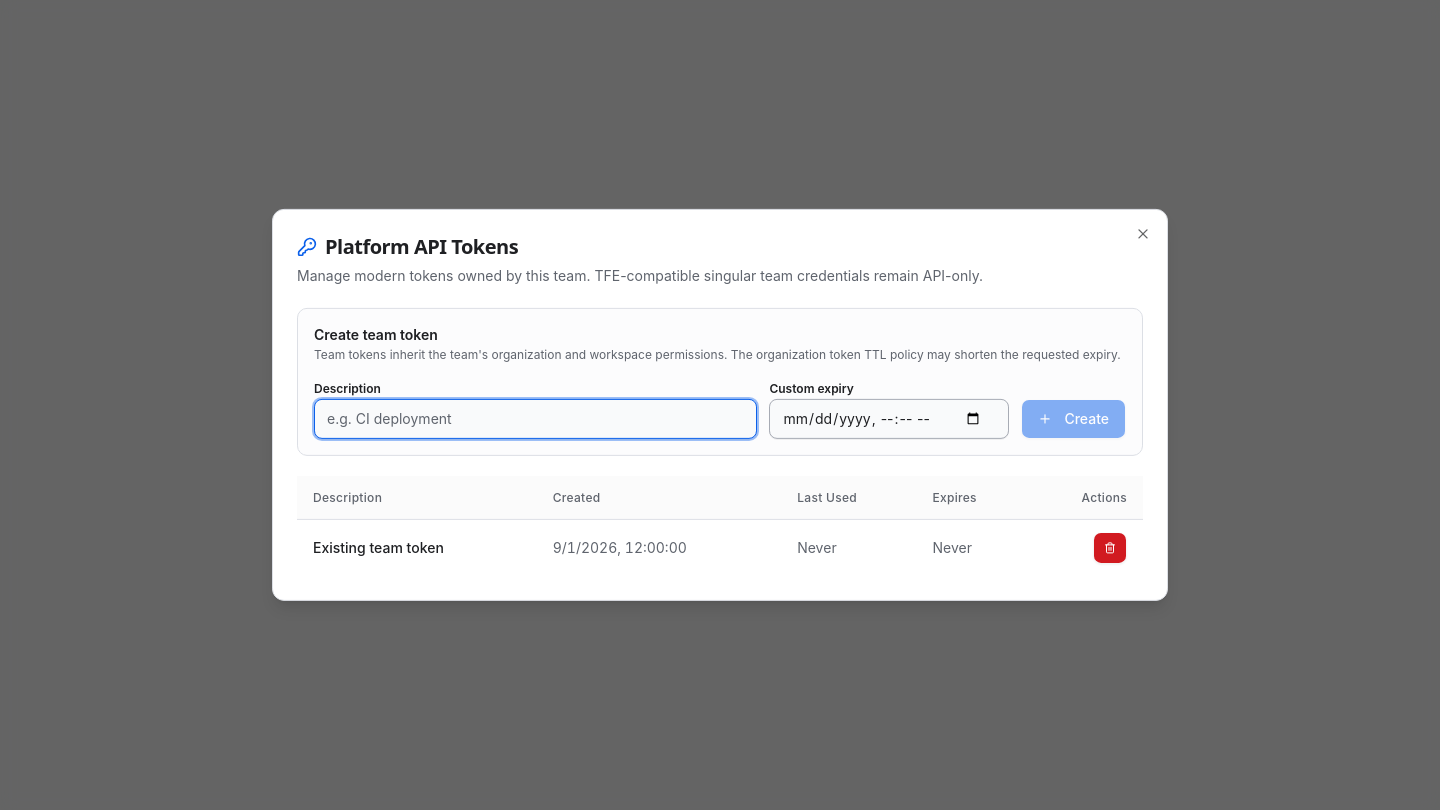
team token dialog lists and creates only modern plural team tokens
Expected: the text "Existing team token" is shown, x1=297 y1=520 x2=537 y2=576
Expected: the text "singular team credentials remain API-only" is shown, x1=297 y1=267 x2=983 y2=284
Step 1. Type "Deployment automation" into the field labelled "Description" → x=536, y=419, box x1=314 y1=399 x2=757 y2=439
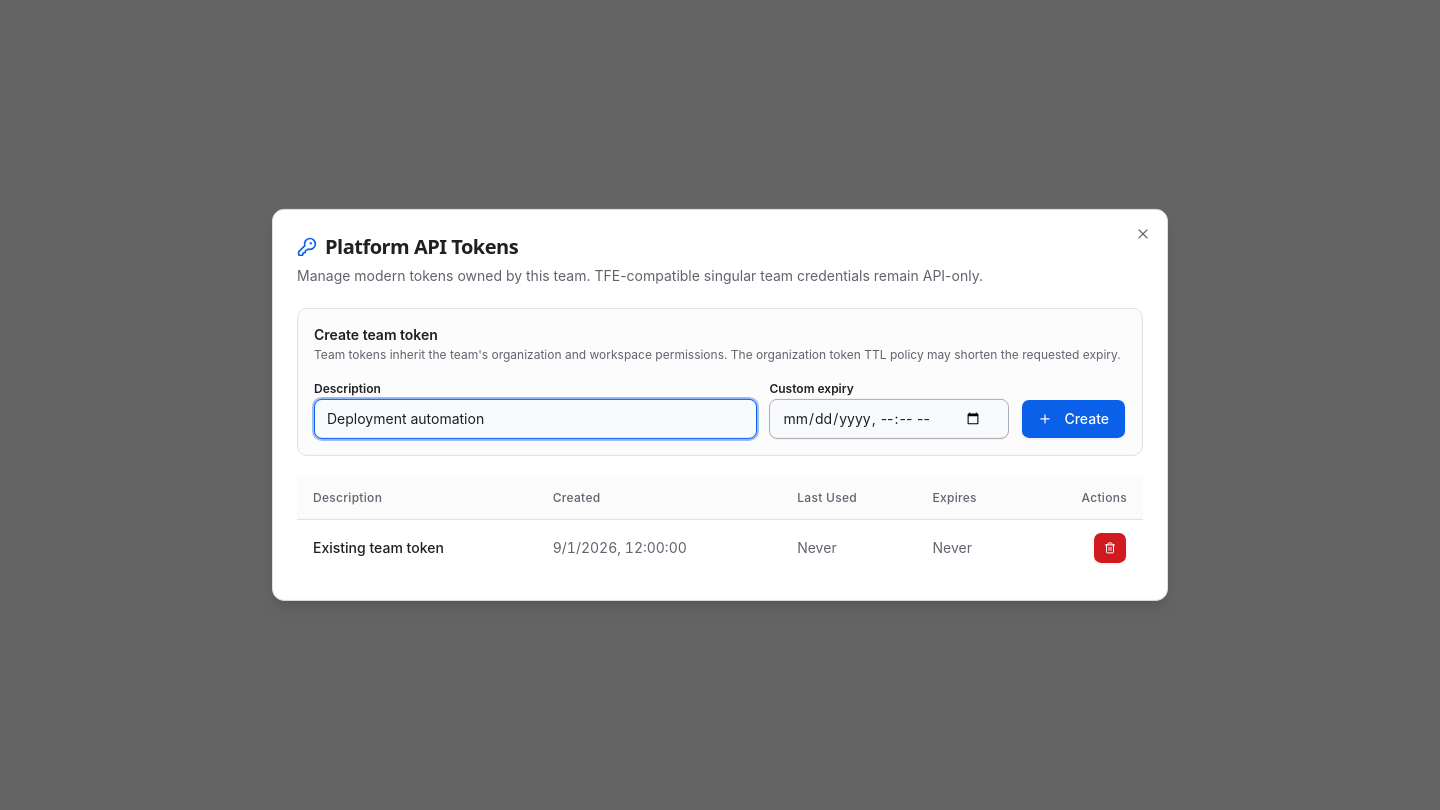
Step 2. Click the button "Create" → x=1074, y=419, box x1=1021 y1=399 x2=1126 y2=439
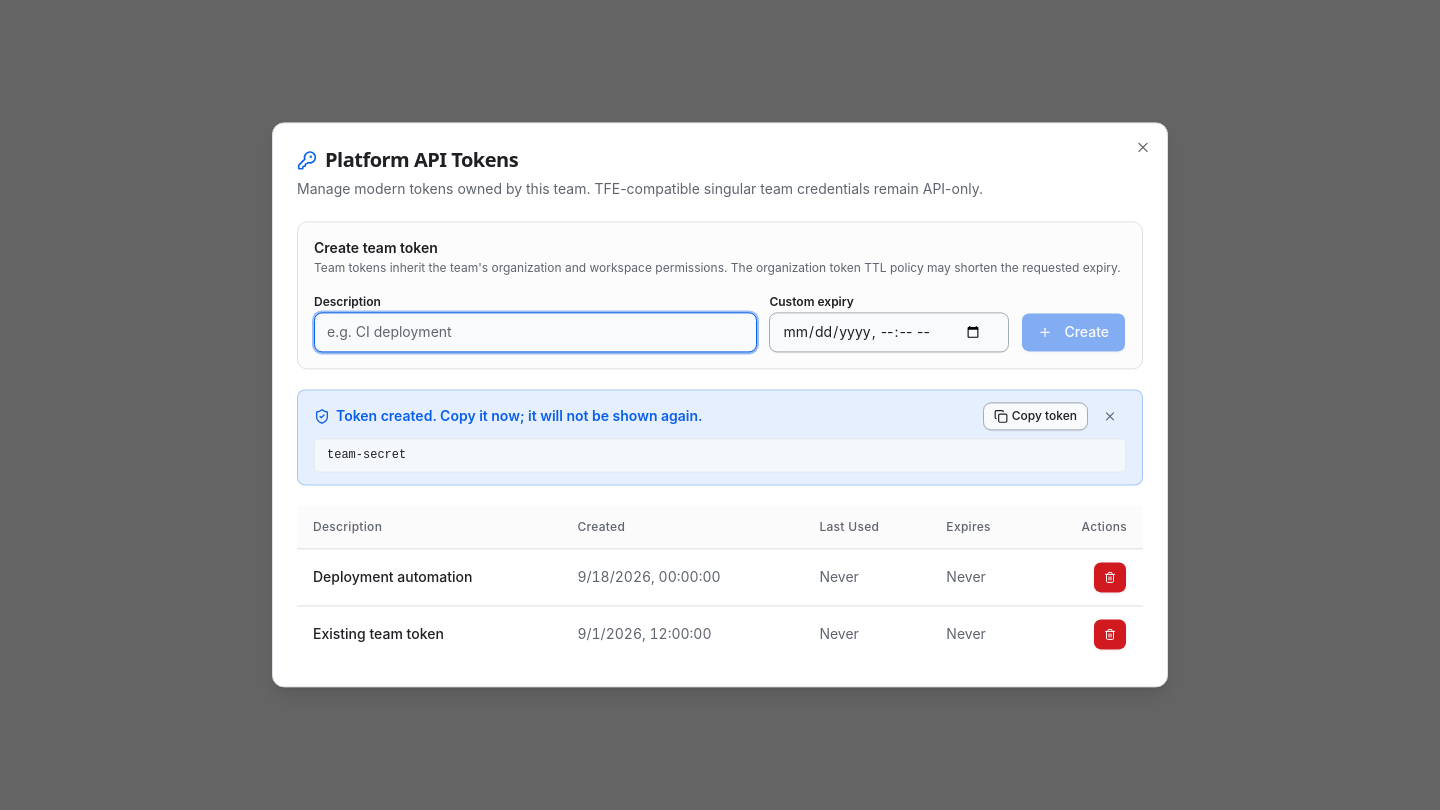
Now the cell "Deployment automation" is shown, box x1=297 y1=549 x2=561 y2=606
Now the text "team-secret" is shown, box x1=314 y1=438 x2=1126 y2=472
